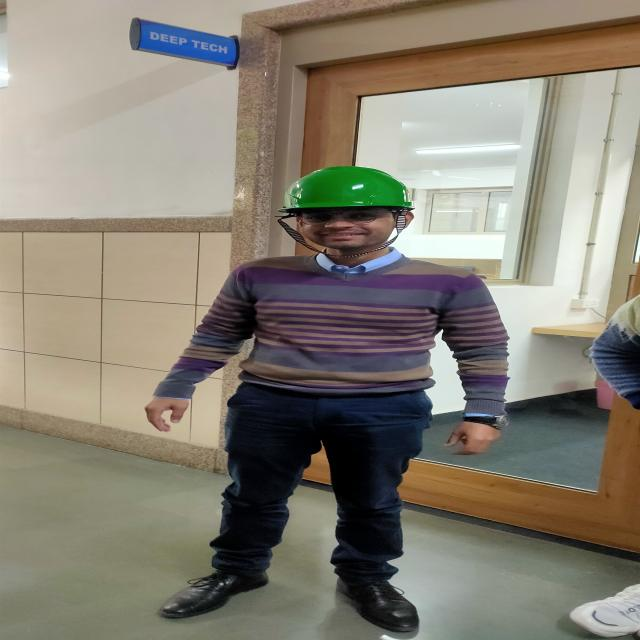no jacket: (144, 164, 511, 635)
